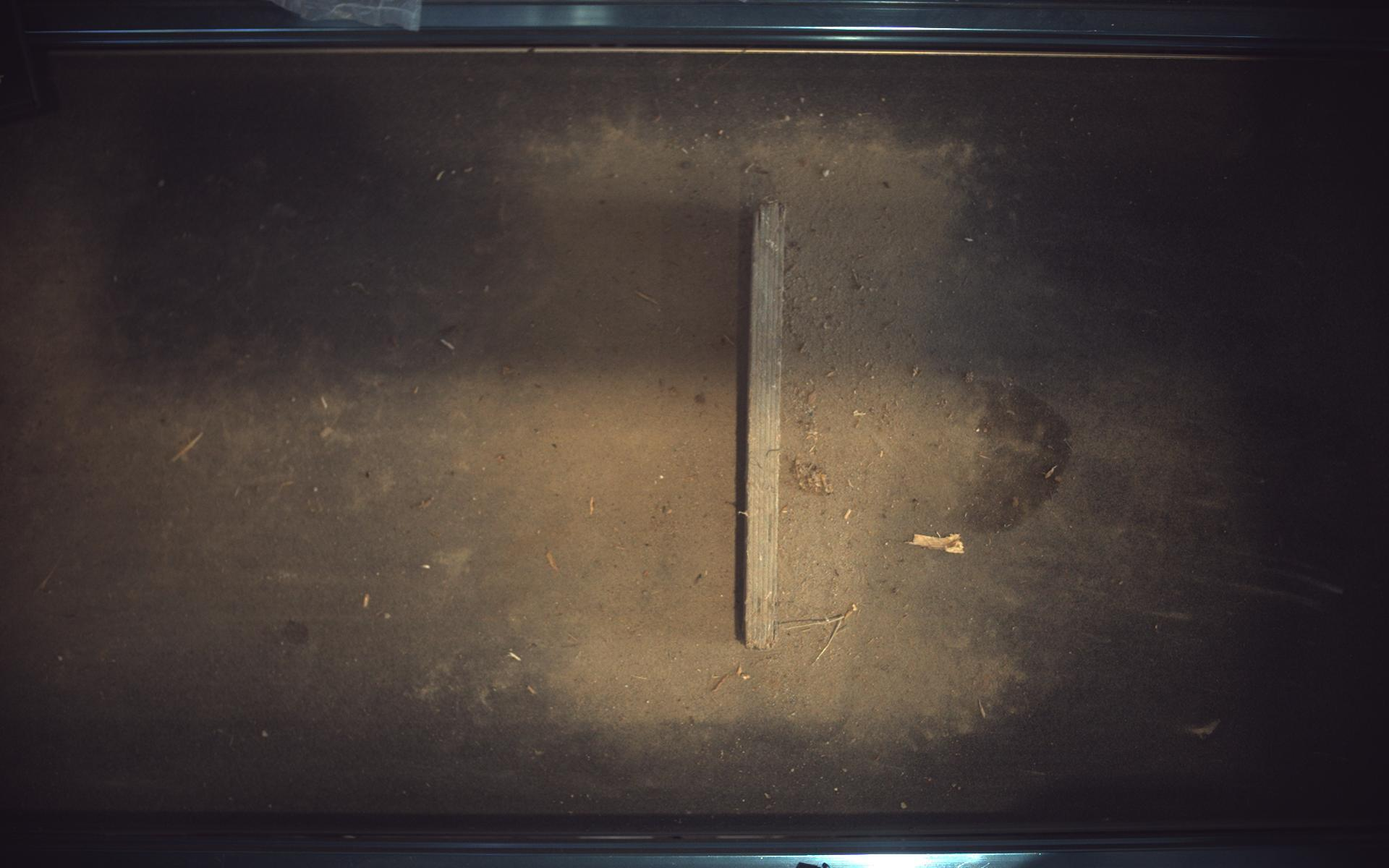wood: (741, 199, 786, 650)
